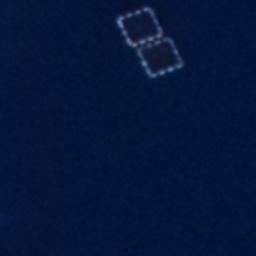square_solid: (113, 3, 168, 50), (135, 33, 186, 81)
